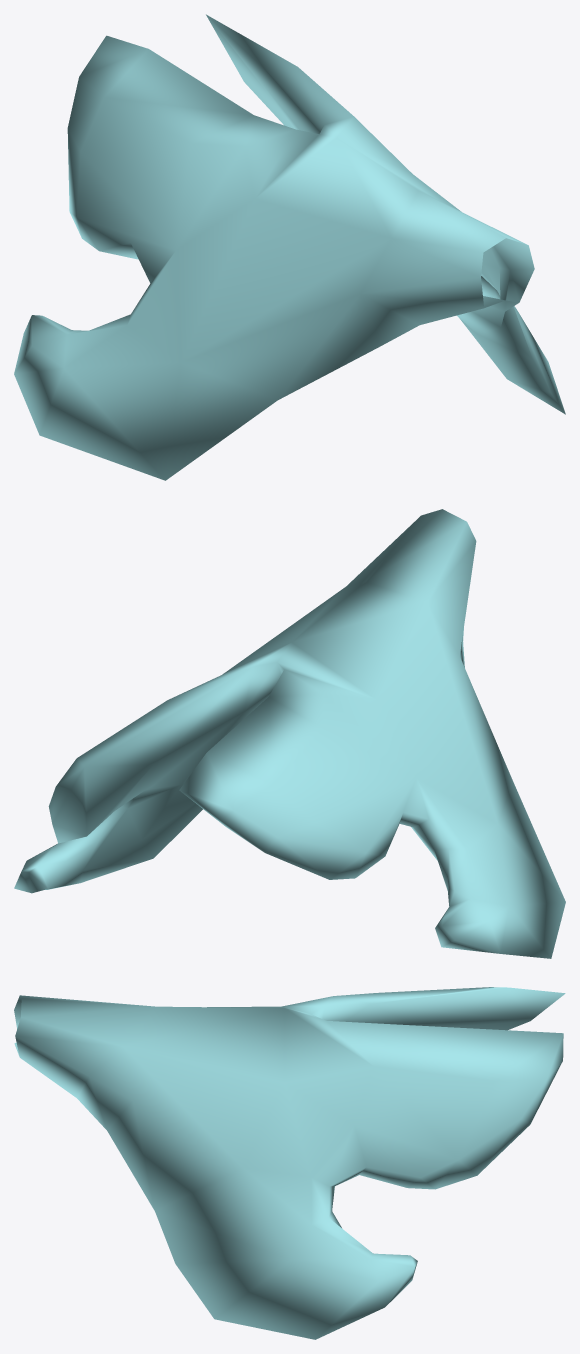
The model's file is Shrimp_Fan_Cherry_LOD1.fbx.
The picture shows the model from 3 angles, top to bottom: view 1: azimuth 30°, elevation 25°; view 2: azimuth 150°, elevation 25°; view 3: azimuth 270°, elevation 25°; orthographic projection. The views are drawn at different scales.
Parts seen in each view (by area): view 1: Ch.Tail_fan_low_LOD1; view 2: Ch.Tail_fan_low_LOD1; view 3: Ch.Tail_fan_low_LOD1.
Boxes of the visible parts, x1,y1,x2,y2 form: Ch.Tail_fan_low_LOD1: (14,14,565,480); Ch.Tail_fan_low_LOD1: (14,509,565,958); Ch.Tail_fan_low_LOD1: (14,987,565,1339).
Bounding box in the file's own units: 50.74 × 29.42 × 58.2.
